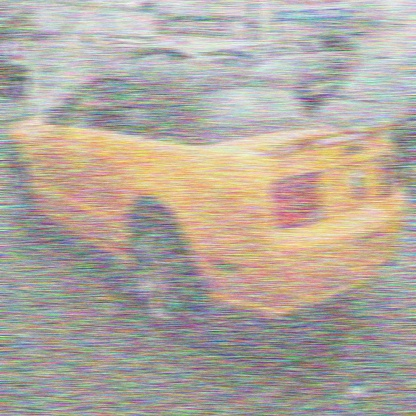Vehicle: (5, 60, 410, 338)
